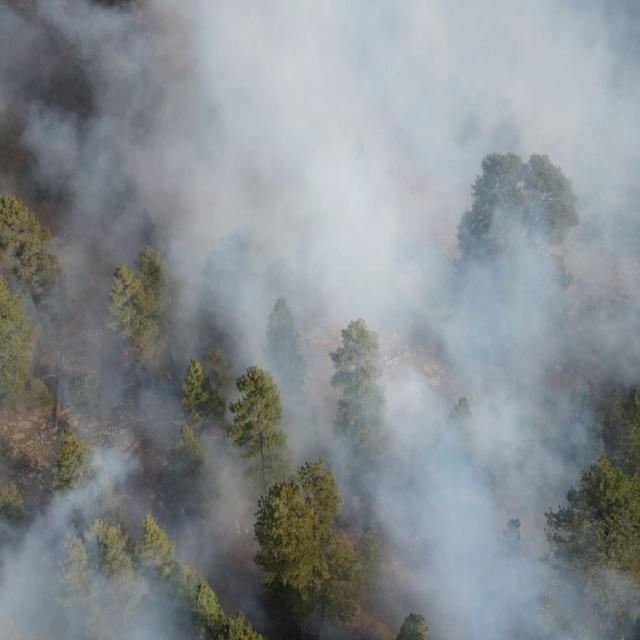fire: (154, 354, 173, 381), (116, 345, 138, 356)
smoke: (0, 1, 383, 447), (382, 0, 592, 555), (0, 447, 258, 640), (381, 556, 640, 640), (594, 0, 640, 460), (258, 448, 336, 502), (336, 447, 381, 533), (308, 606, 349, 640)
